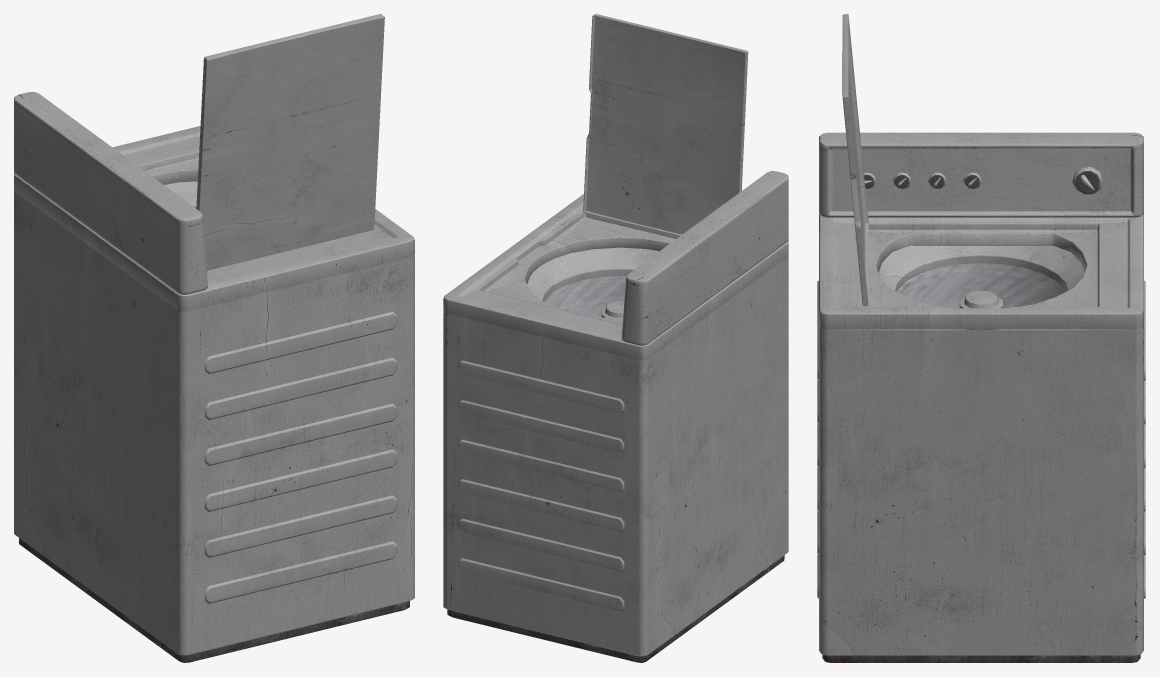
Rendered from SM_WashingMachineB.FBX.
3 views of the same model, side by side, from view 1: azimuth 30°, elevation 25°; view 2: azimuth 150°, elevation 25°; view 3: azimuth 270°, elevation 25° (orthographic). The views are drawn at different scales.
Visible parts, largest first — view 1: SM_WashingMachineB_LOD0; view 2: SM_WashingMachineB_LOD0; view 3: SM_WashingMachineB_LOD0.
Boxes of the visible parts, x1,y1,x2,y2 form: SM_WashingMachineB_LOD0: [14, 14, 414, 662]; SM_WashingMachineB_LOD0: [443, 14, 788, 662]; SM_WashingMachineB_LOD0: [817, 14, 1145, 662].
Size of what is drawn, in the model's own units: 77.8 by 185 by 98.35.
